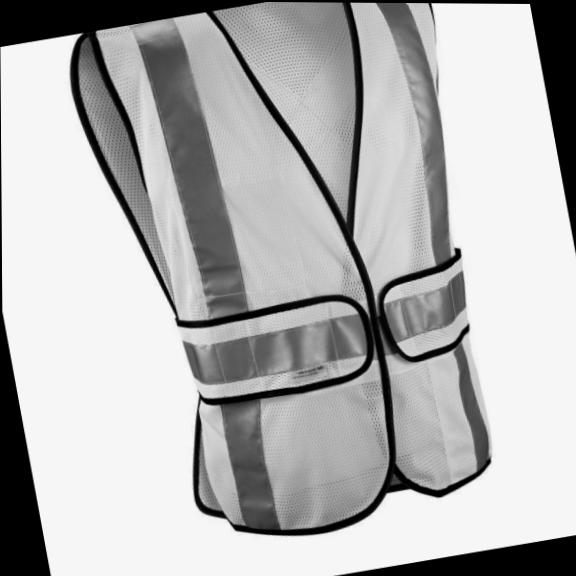safety_vest: (62, 0, 525, 565)
